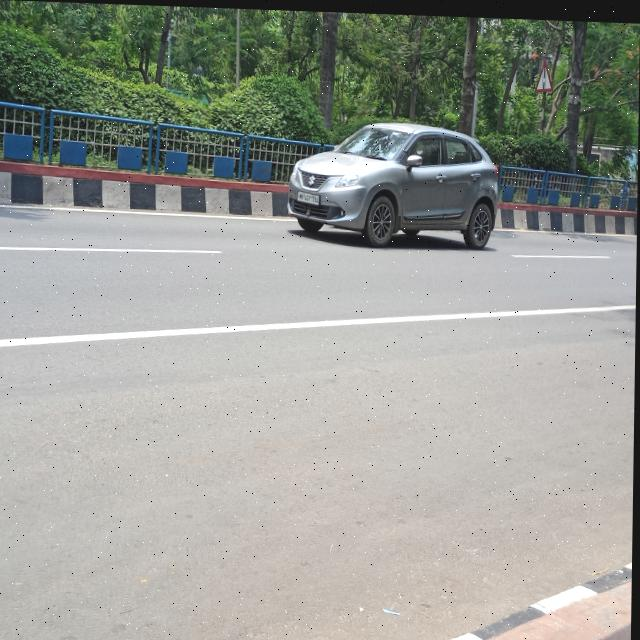car: (285, 104, 504, 262)
